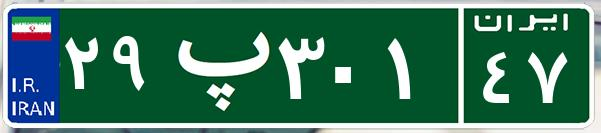0: (330, 28, 385, 110)
1: (385, 28, 445, 110)
2: (57, 26, 110, 107)
3: (273, 28, 330, 110)
4: (475, 38, 525, 113)
7: (525, 38, 570, 115)
9: (110, 28, 158, 105)
پ: (158, 15, 273, 115)
